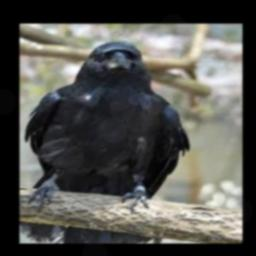Crow: (24, 40, 190, 212)
